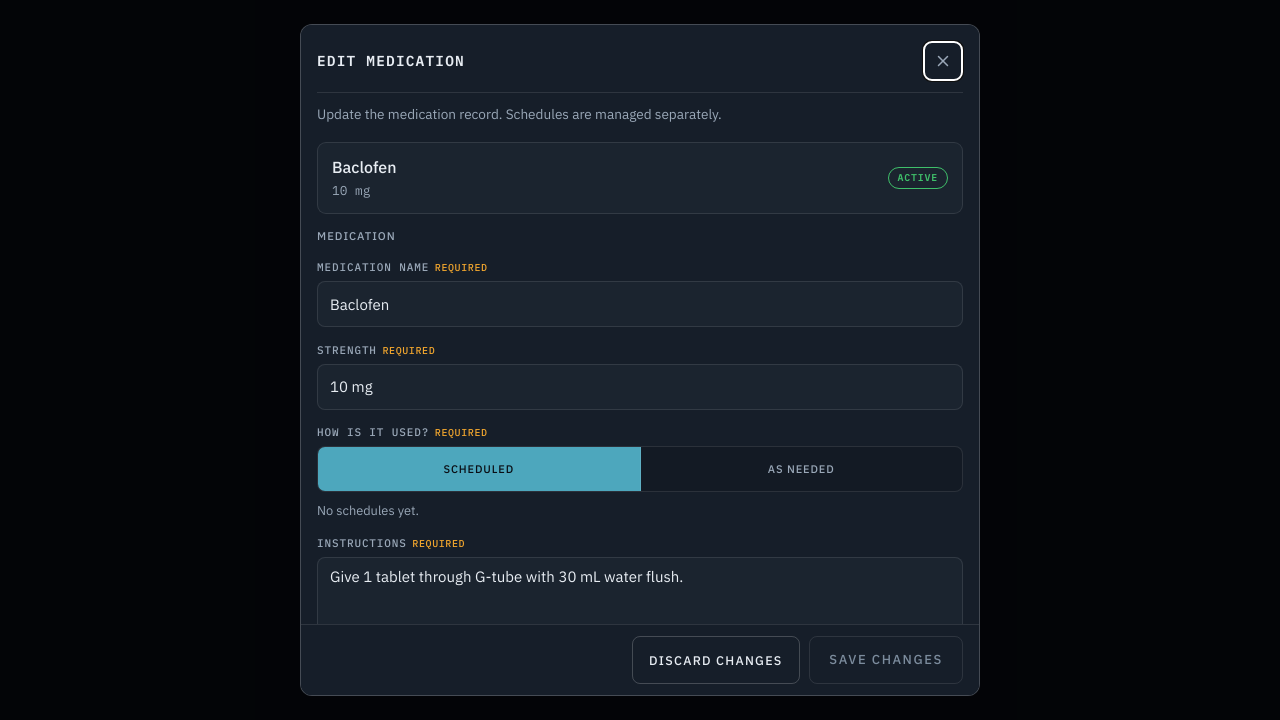
editing a medication › marks the fields that differ and counts them
Replace the text in the field labelled "Medication name Required" with "Baclofen ER". click: point(640, 304)
box: [317, 281, 963, 327]
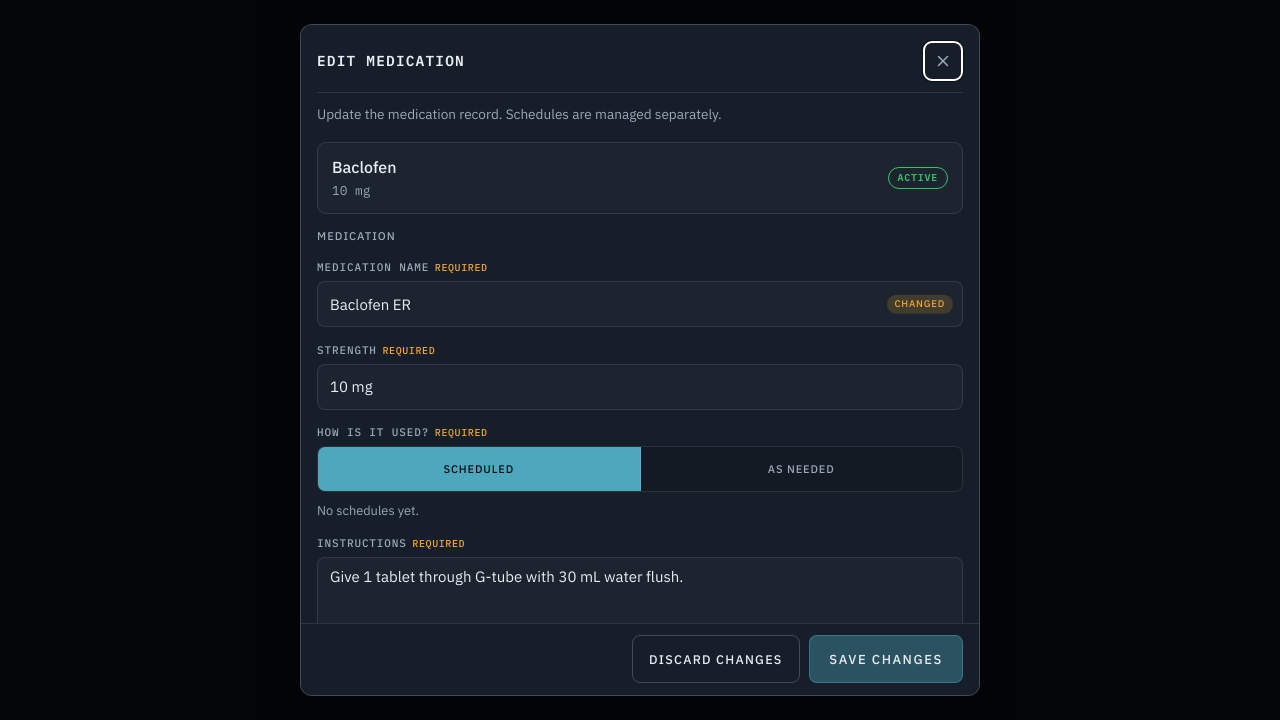
Result: the text "Changed" is shown once at [886, 295, 953, 313]
Replace the text in the field labelled "Strength Required" with "20 mg". click: point(640, 387)
box: [317, 364, 963, 410]
(page scrolled)
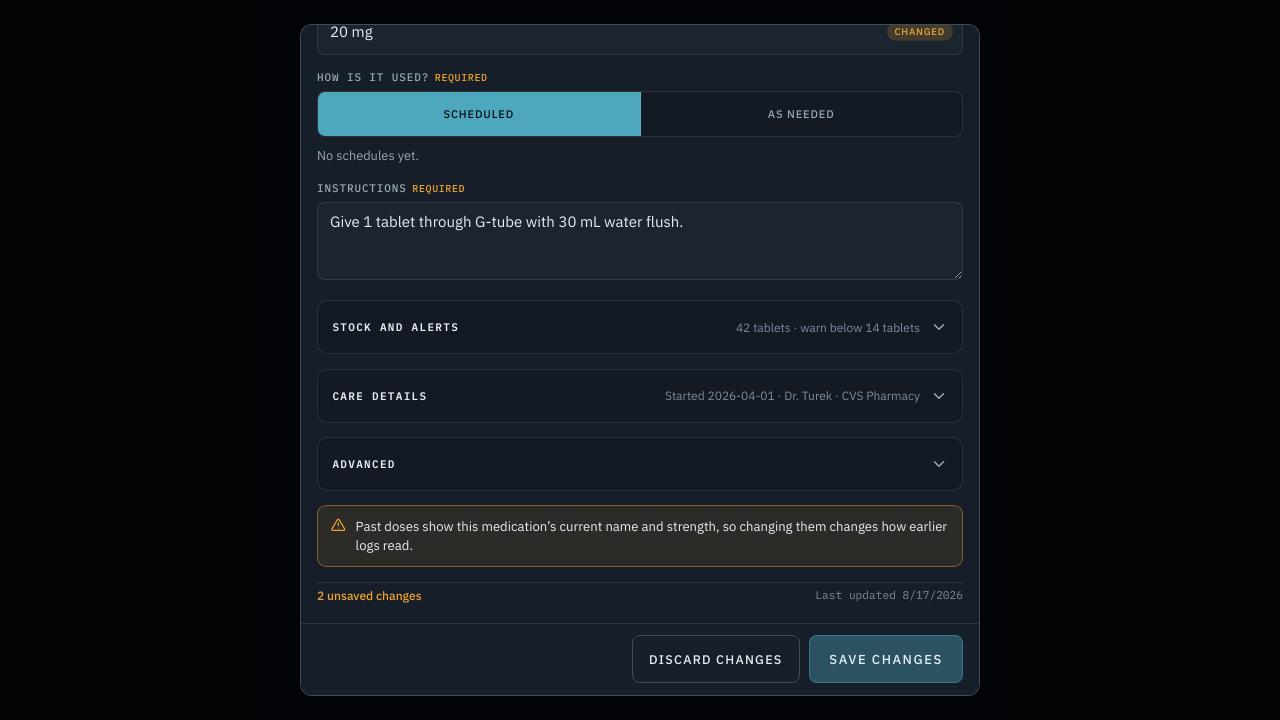
Result: the text "2 unsaved changes" is shown at [317, 587, 422, 605]
